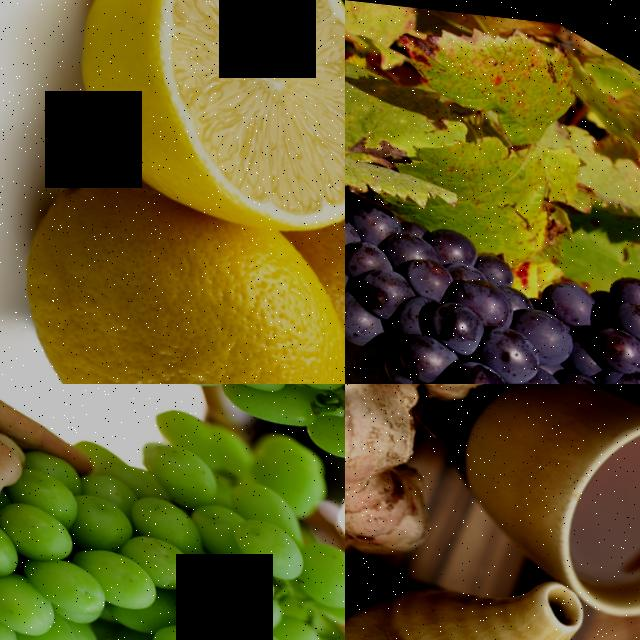ginger: (345, 384, 594, 606)
grapes: (0, 384, 345, 640), (345, 107, 640, 384), (37, 384, 345, 558)
lemon: (22, 0, 345, 278), (0, 138, 345, 384)
